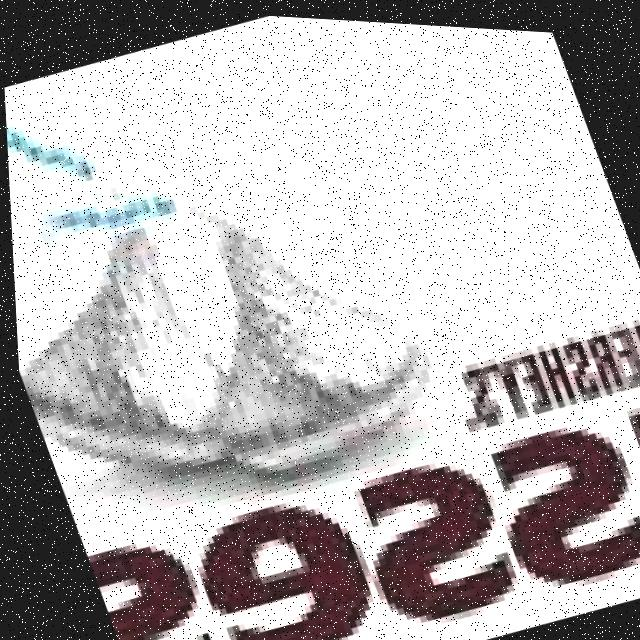kisses: (124, 146, 451, 499), (7, 183, 267, 517)
